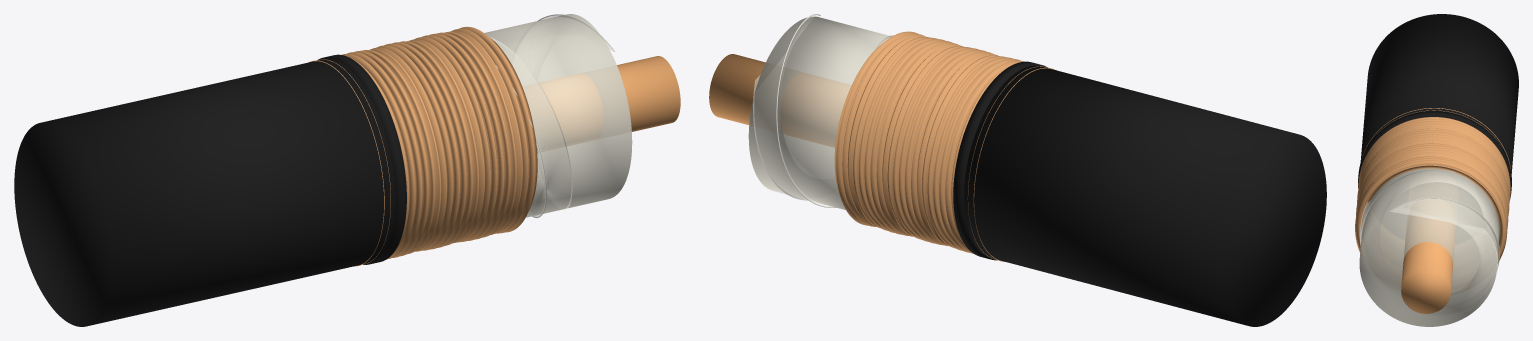
File: rf-ldf6.glb
3 views of the same model, side by side, from view 1: azimuth 30°, elevation 25°; view 2: azimuth 150°, elevation 25°; view 3: azimuth 270°, elevation 25° (orthographic). The views are drawn at different scales.
Parts seen in each view (by area): view 1: black PE jacket body, corrugated copper shield, foam PE dielectric, solid center conductor continuous, surface PTFE tape wrap, jacket cut lip; view 2: black PE jacket body, corrugated copper shield, foam PE dielectric, solid center conductor continuous, jacket cut lip, surface PTFE tape wrap; view 3: foam PE dielectric, black PE jacket body, corrugated copper shield, surface PTFE tape wrap, solid center conductor continuous, jacket cut lip, subtle PTFE tape lap line.
Part boxes in pixels (x1,y1,x2,y2): black PE jacket body: (14, 58, 395, 326); corrugated copper shield: (308, 26, 537, 266); foam PE dielectric: (484, 14, 632, 217); solid center conductor continuous: (524, 56, 680, 152); surface PTFE tape wrap: (490, 15, 613, 216); jacket cut lip: (317, 54, 406, 264); black PE jacket body: (964, 65, 1326, 326); corrugated copper shield: (834, 31, 1054, 261); foam PE dielectric: (748, 16, 891, 209); solid center conductor continuous: (709, 54, 851, 147); jacket cut lip: (953, 61, 1048, 260); surface PTFE tape wrap: (753, 15, 893, 206); foam PE dielectric: (1359, 168, 1499, 326); black PE jacket body: (1360, 14, 1518, 173); corrugated copper shield: (1355, 108, 1511, 289); surface PTFE tape wrap: (1360, 169, 1498, 312); solid center conductor continuous: (1401, 199, 1455, 313); jacket cut lip: (1358, 111, 1511, 199); subtle PTFE tape lap line: (1360, 197, 1499, 270).
Bounding box in the file's own units: 6.69 × 2.07 × 2.21.
